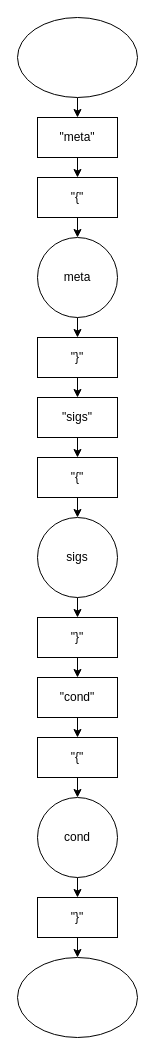
This 155x1055 diagram has some shape labels left out. Each missing label, with the centre of its shape:
"begin" belongs at point 77,57.
"end" belongs at point 77,997.
